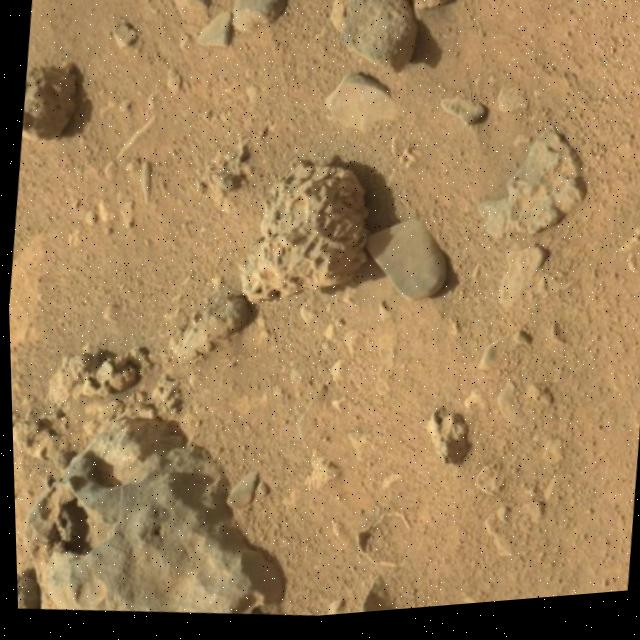mars-rocks: (239, 163, 367, 306), (478, 135, 584, 243), (366, 226, 445, 305), (340, 0, 418, 76), (170, 297, 251, 364), (325, 77, 397, 136), (22, 65, 74, 138), (233, 0, 286, 34)
